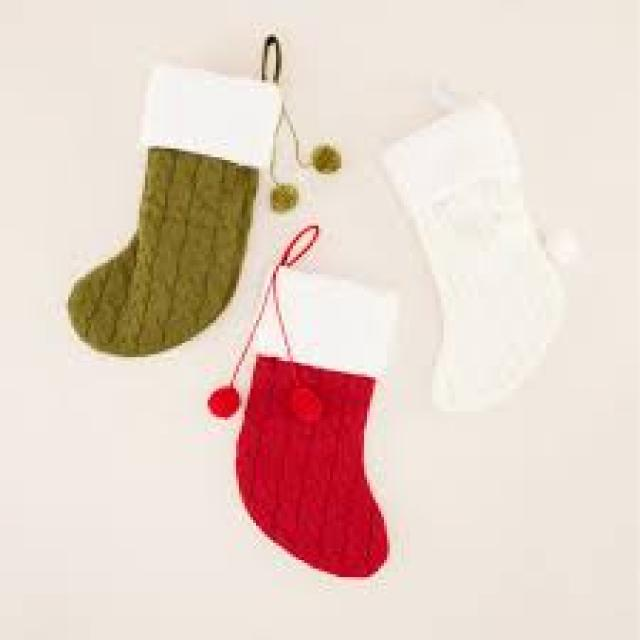sock: (66, 63, 282, 357), (373, 89, 566, 412)
